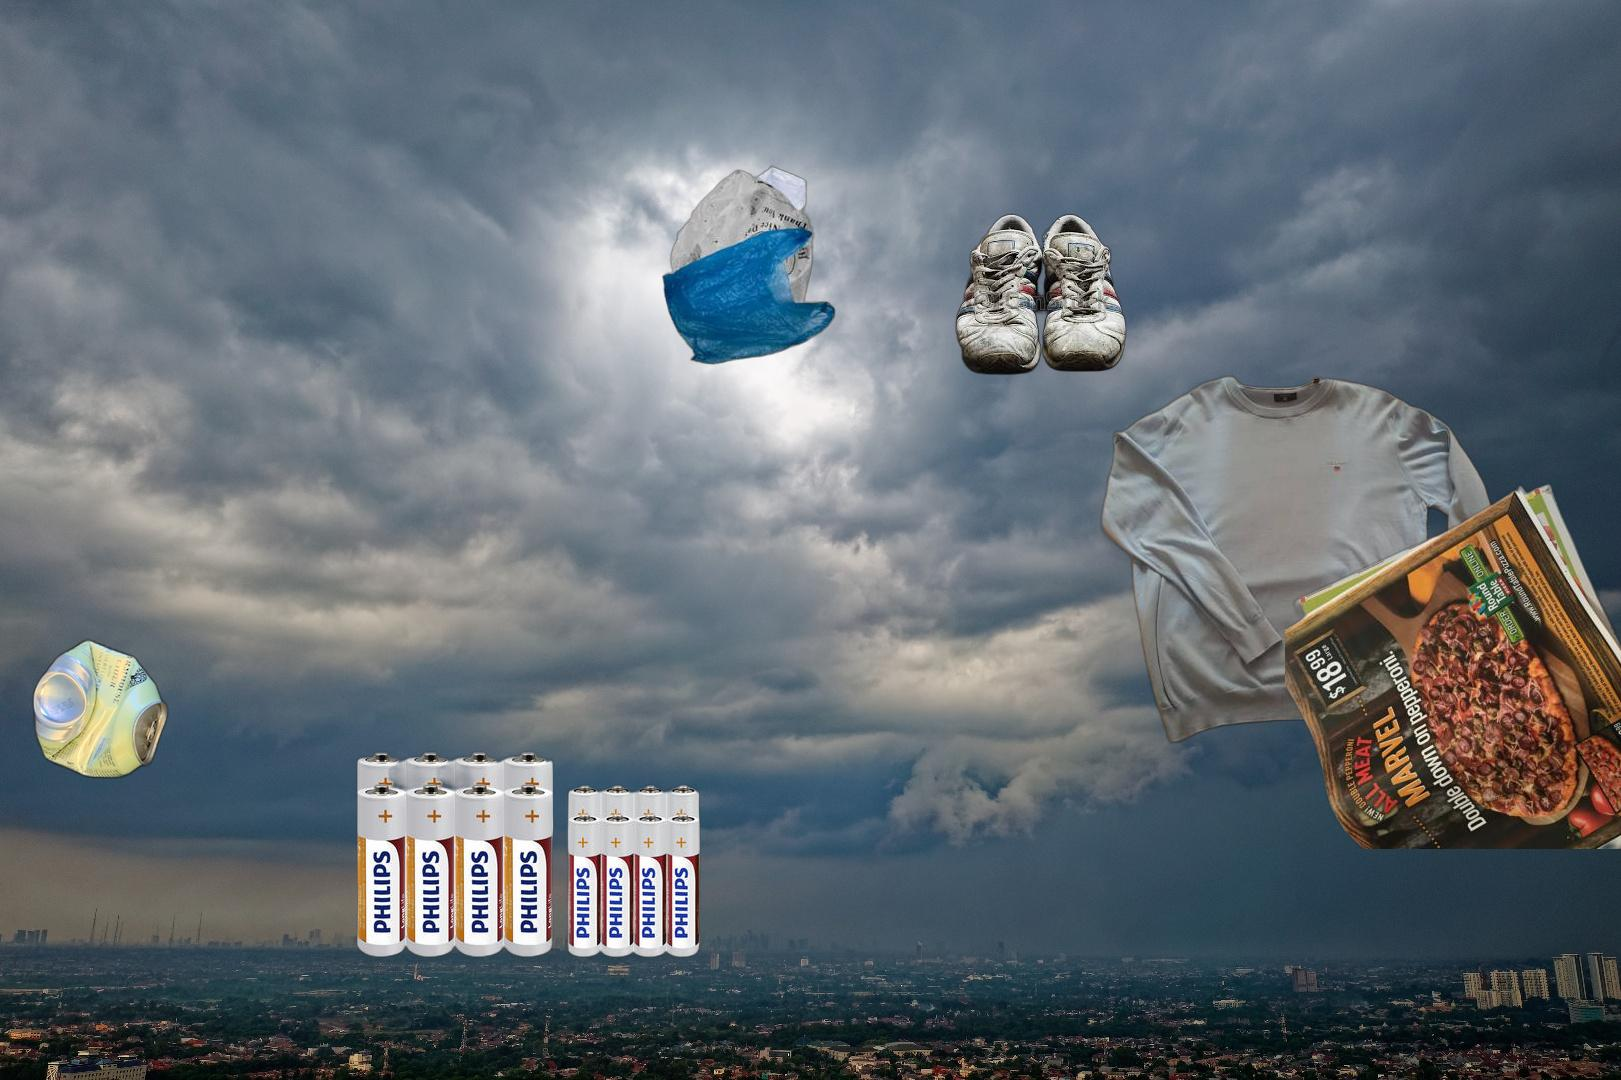battery: (353, 750, 703, 961)
clothes: (1097, 372, 1514, 746)
metal-cans: (28, 634, 172, 783)
paper: (1285, 482, 1621, 849)
penholder: (1440, 242, 1621, 765)
plastic-bag: (660, 163, 838, 366)
shoes: (953, 210, 1129, 377)
